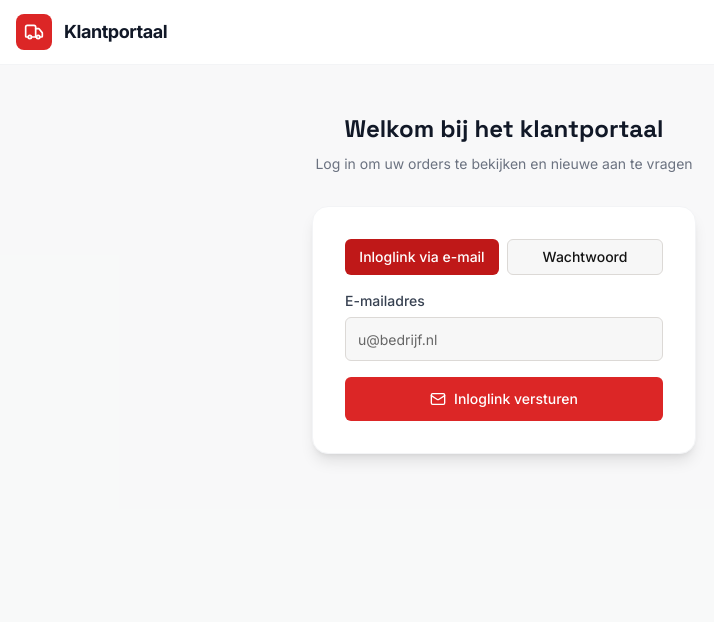
Scenario: ClientPortal › shows error message on failed login (handleLogin error branch)
Step 1. Click the button "Wachtwoord" → coordinates (585, 257), box [507,239,663,275]
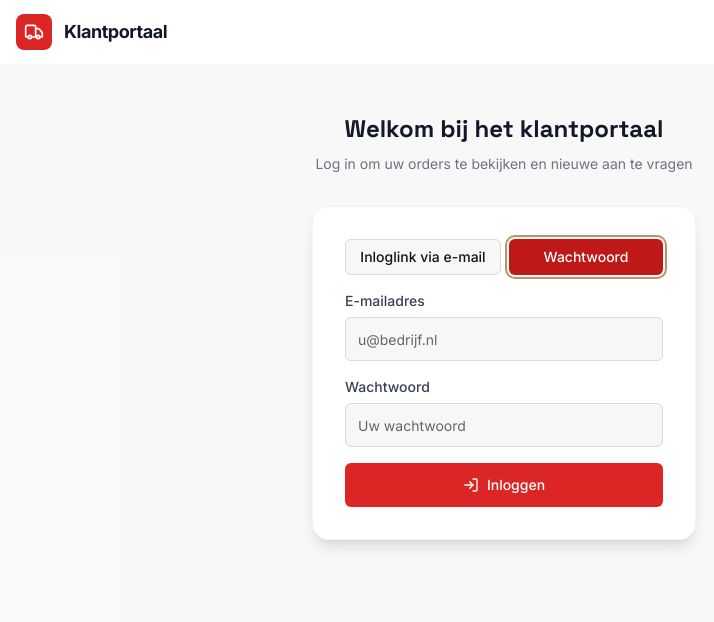
Step 2. Type "bad@example.com" into the field with placeholder "u@bedrijf.nl" → coordinates (504, 339), box [345,317,663,361]
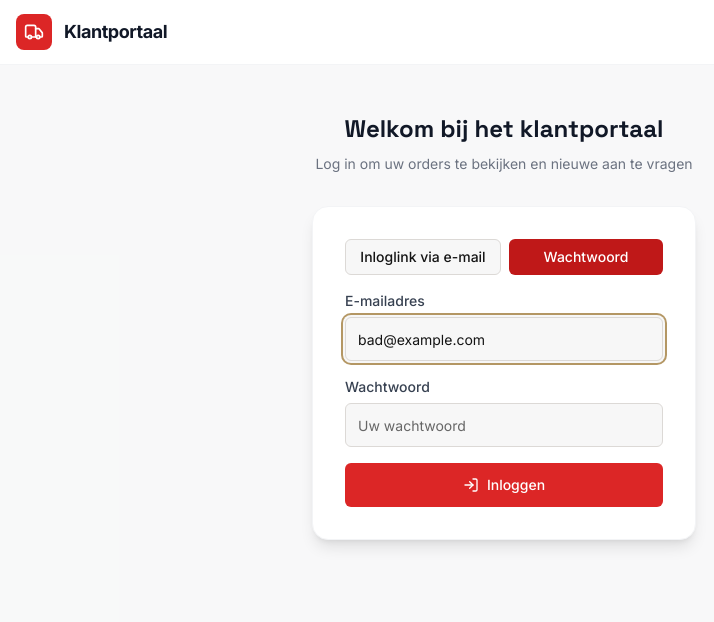
Step 3. Type "wrong" into the password field with placeholder "Uw wachtwoord" → coordinates (504, 425), box [345,403,663,447]
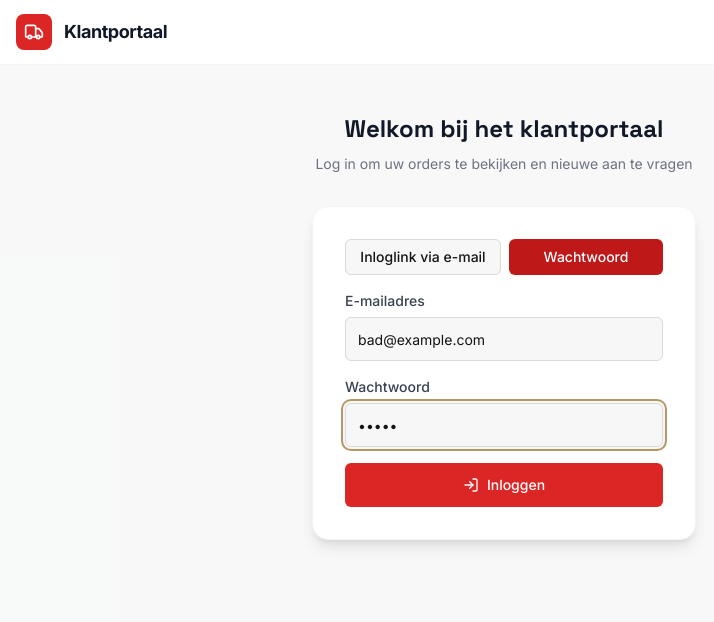
Step 4. Click the button "Inloggen" → coordinates (504, 485), box [345,463,663,507]
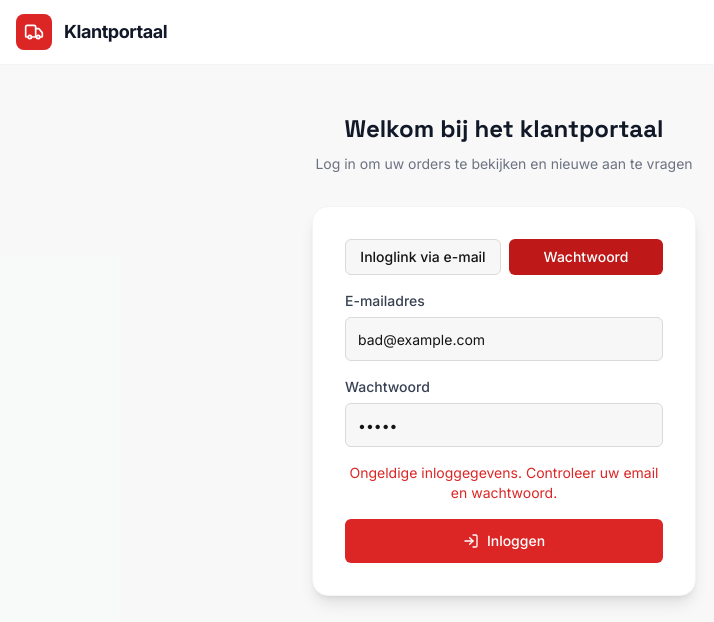
Now the text "Ongeldige inloggegevens. Controleer uw email en wachtwoord." is shown, box [345,463,663,503]
